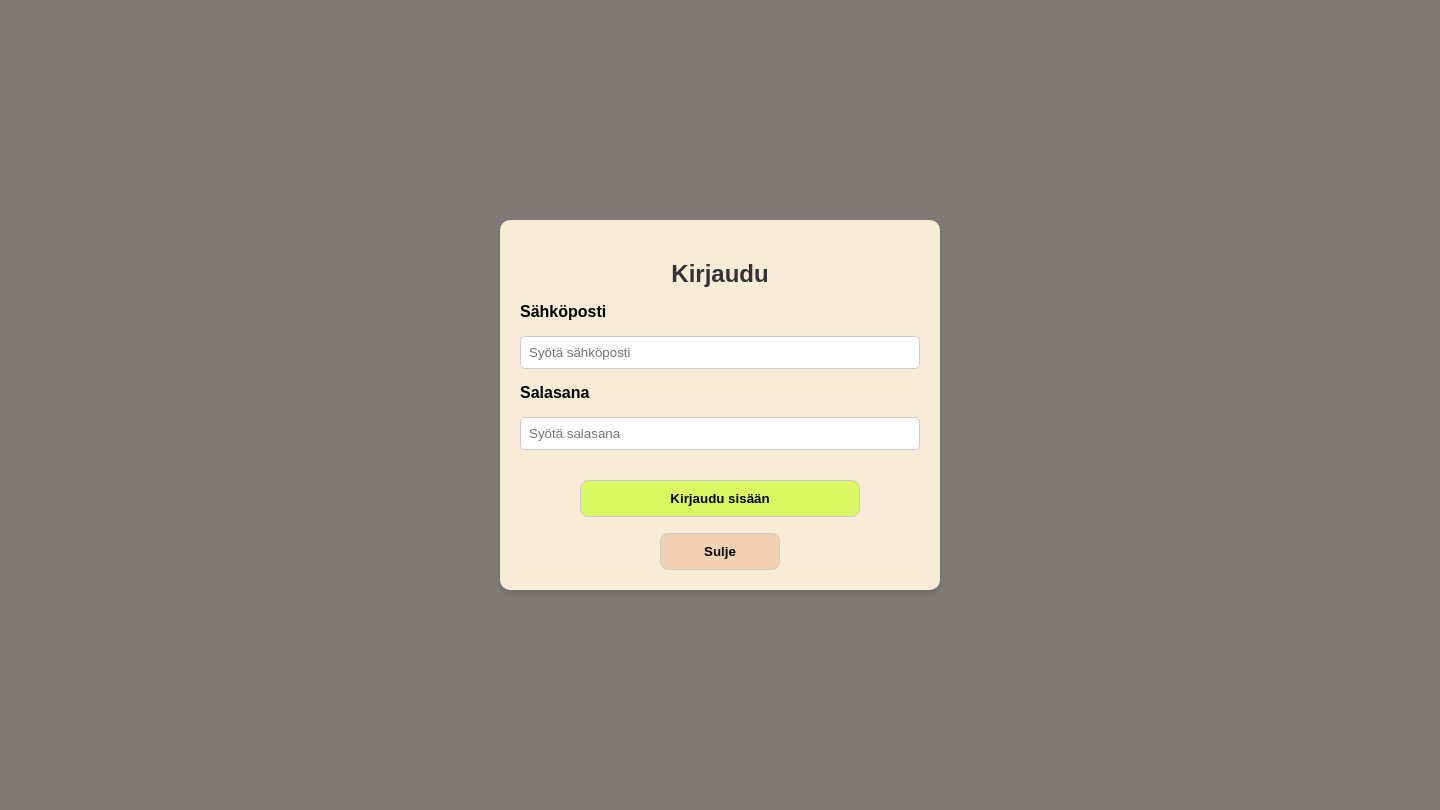
Scenario: lähettää kirjautumistiedot oikein ja näyttää onnistumisviestin
Note: Syötä tiedot
Type "test@example.com" into the field with placeholder "Syötä sähköposti".
click(720, 352); type("test@example.com")  # box [520,336,920,369]
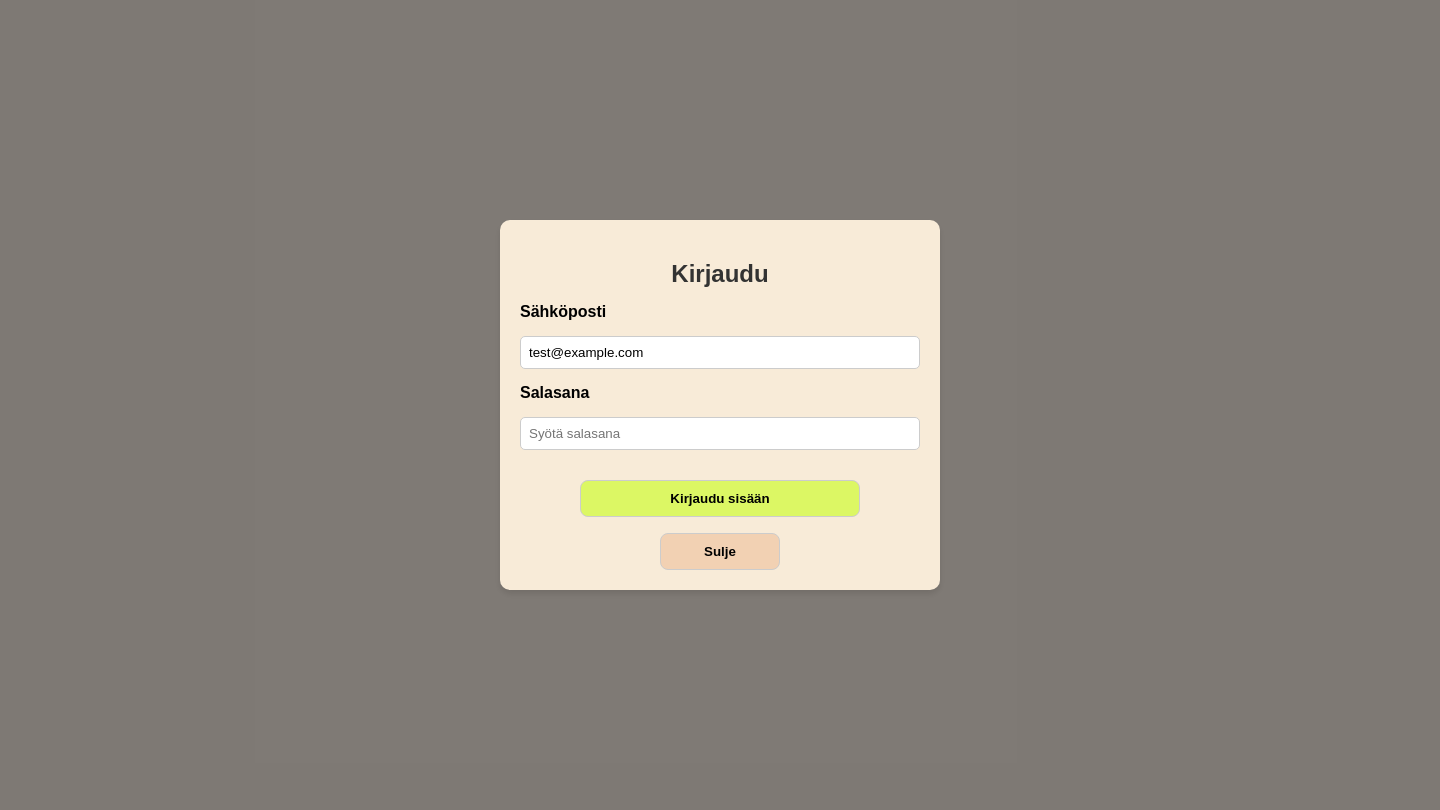
Type "password123" into the password field with placeholder "Syötä salasana".
click(720, 434); type("password123")  # box [520,417,920,450]
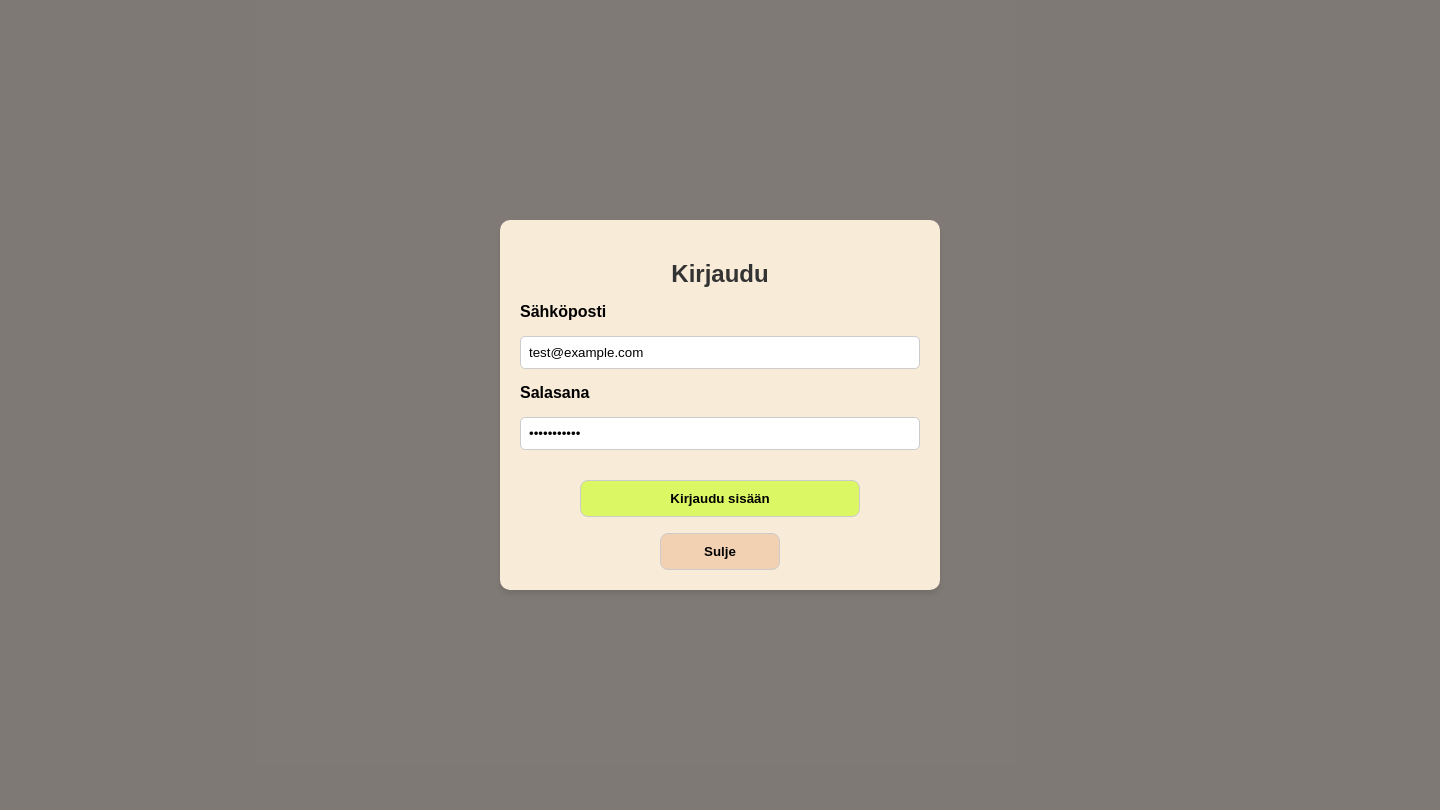
Note: Lähetä lomake
Click the button "Kirjaudu sisään".
click(720, 498)  # box [580,480,860,517]
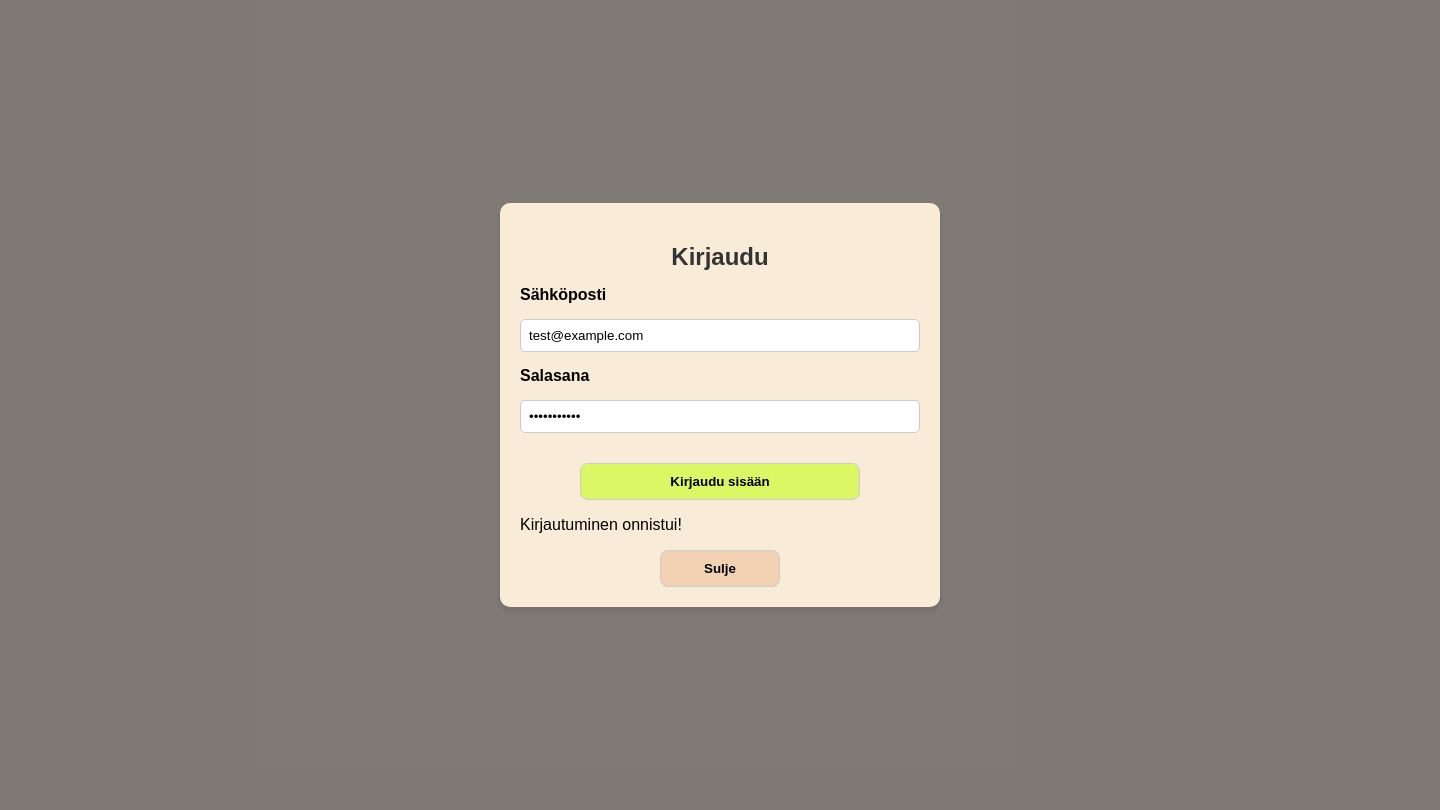
Check: the text "Kirjautuminen onnistui!" is shown, box [520,516,682,533]
